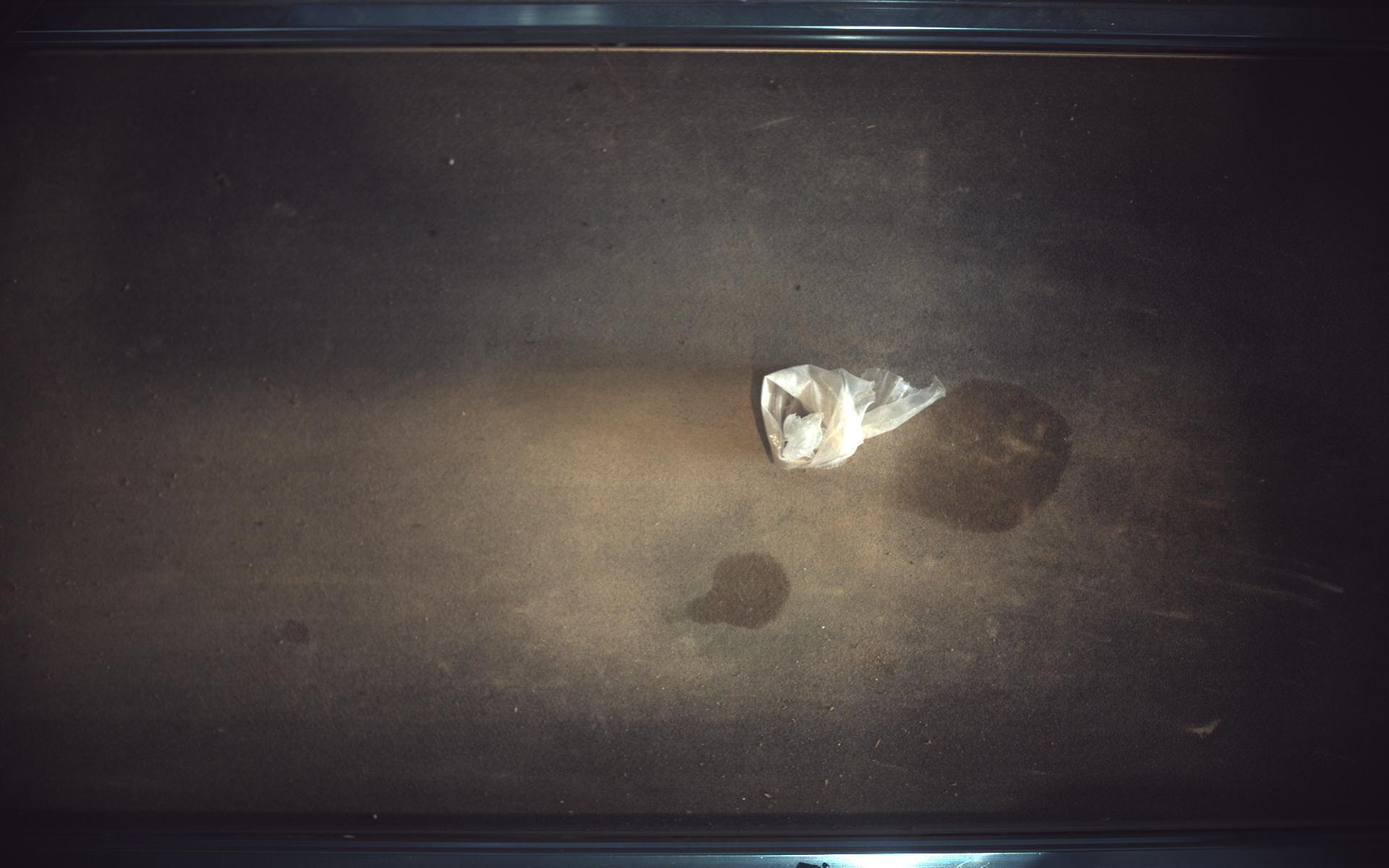general_w: (763, 365, 948, 468)
